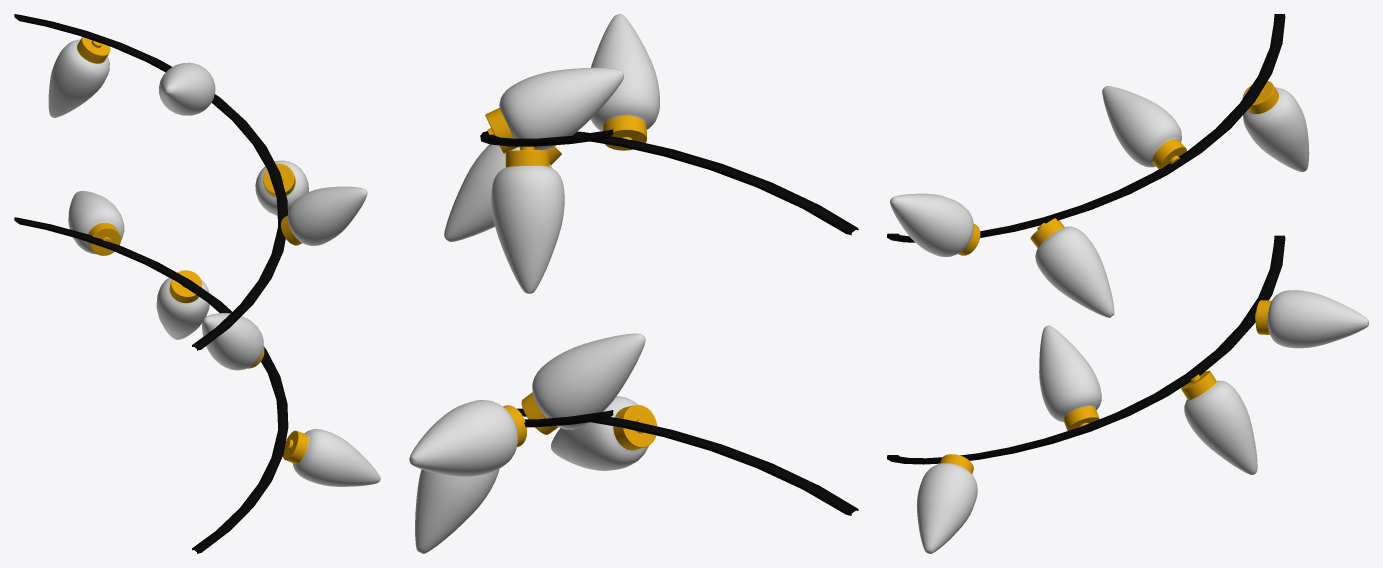
File: decoration_pillar_lights.fbx
3 renders of one model, left to right at view 1: azimuth 30°, elevation 25°; view 2: azimuth 150°, elevation 25°; view 3: azimuth 270°, elevation 25°, orthographic. The views are drawn at different scales.
Parts seen in each view (by area): view 1: decoration_pillar_lights; view 2: decoration_pillar_lights; view 3: decoration_pillar_lights.
Part boxes in pixels (bbox=[...]): decoration_pillar_lights: bbox=[14, 14, 380, 553]; decoration_pillar_lights: bbox=[409, 14, 858, 553]; decoration_pillar_lights: bbox=[887, 14, 1368, 553].
Size of the model in its own units: 37.23 by 71.46 by 70.46.
